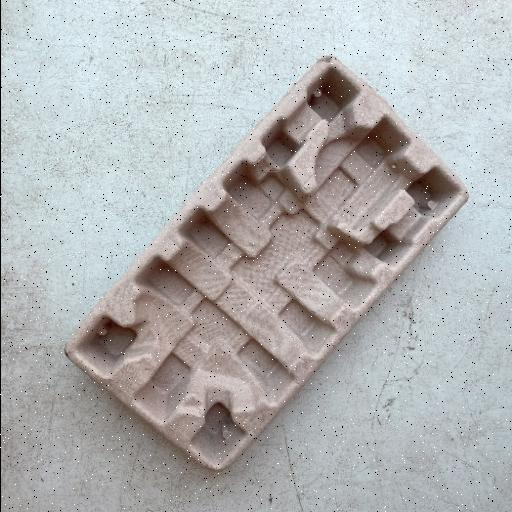Cardboard: (63, 54, 469, 472)
